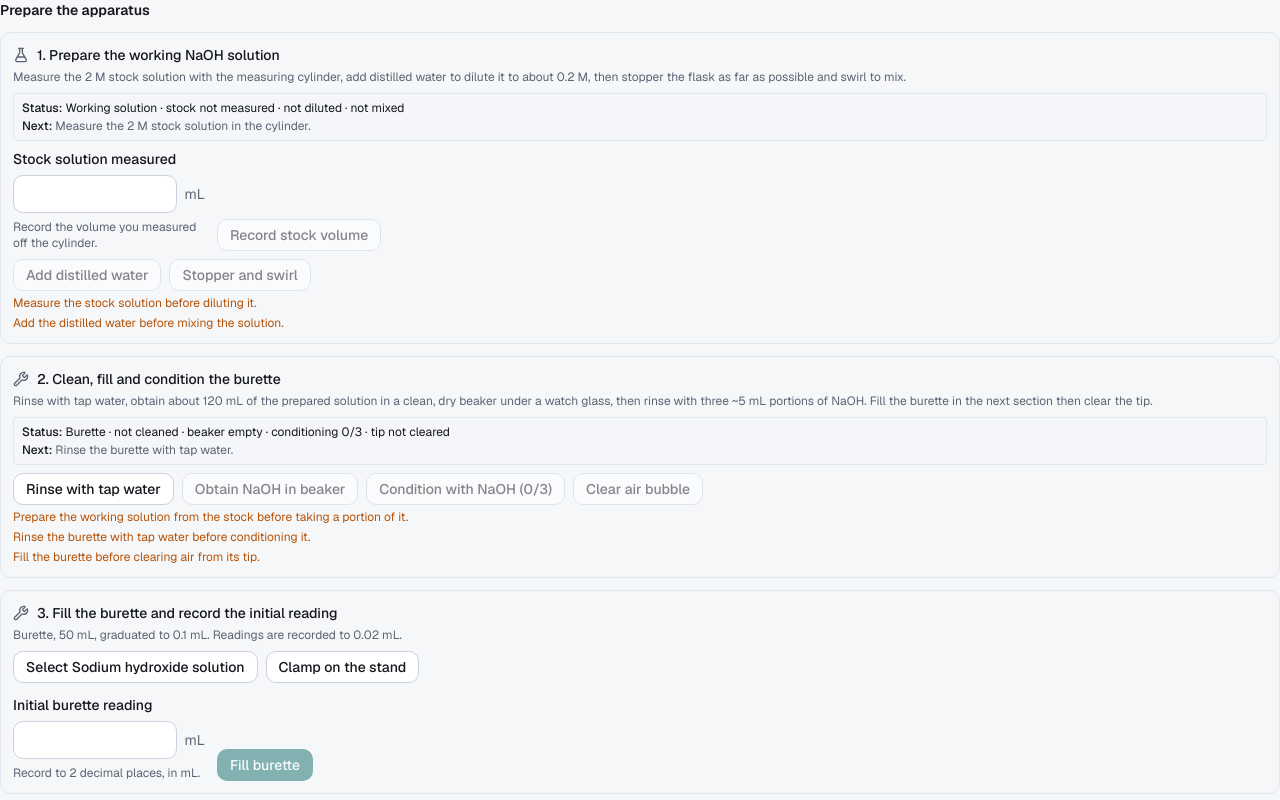
Test: the immersive laboratory (jsdom) › records the initial reading, the mass and the indicator through actions
Type "0.00" into the field labelled "Initial burette reading".
click(95, 740); type("0.00")  # box [13,721,177,759]
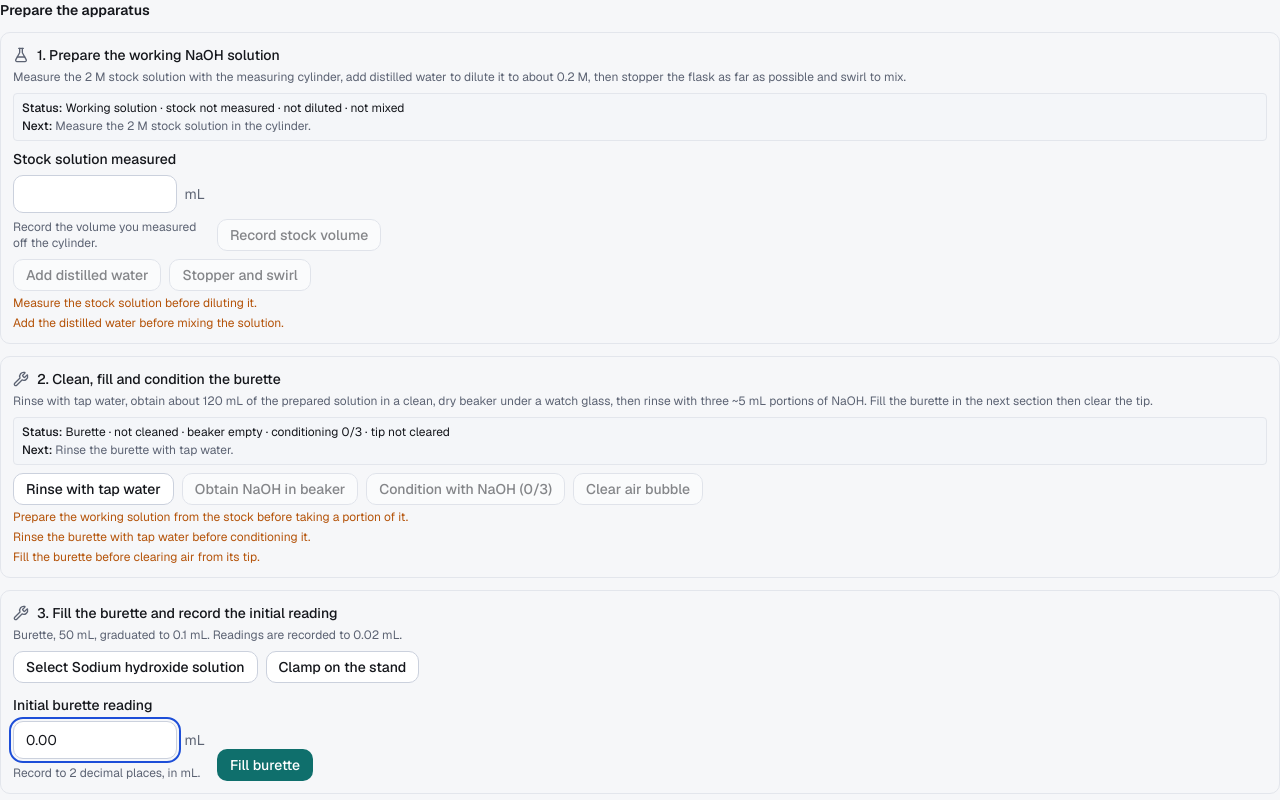
Click the button "Fill burette".
click(265, 765)  # box [217,749,313,781]
(page scrolled)
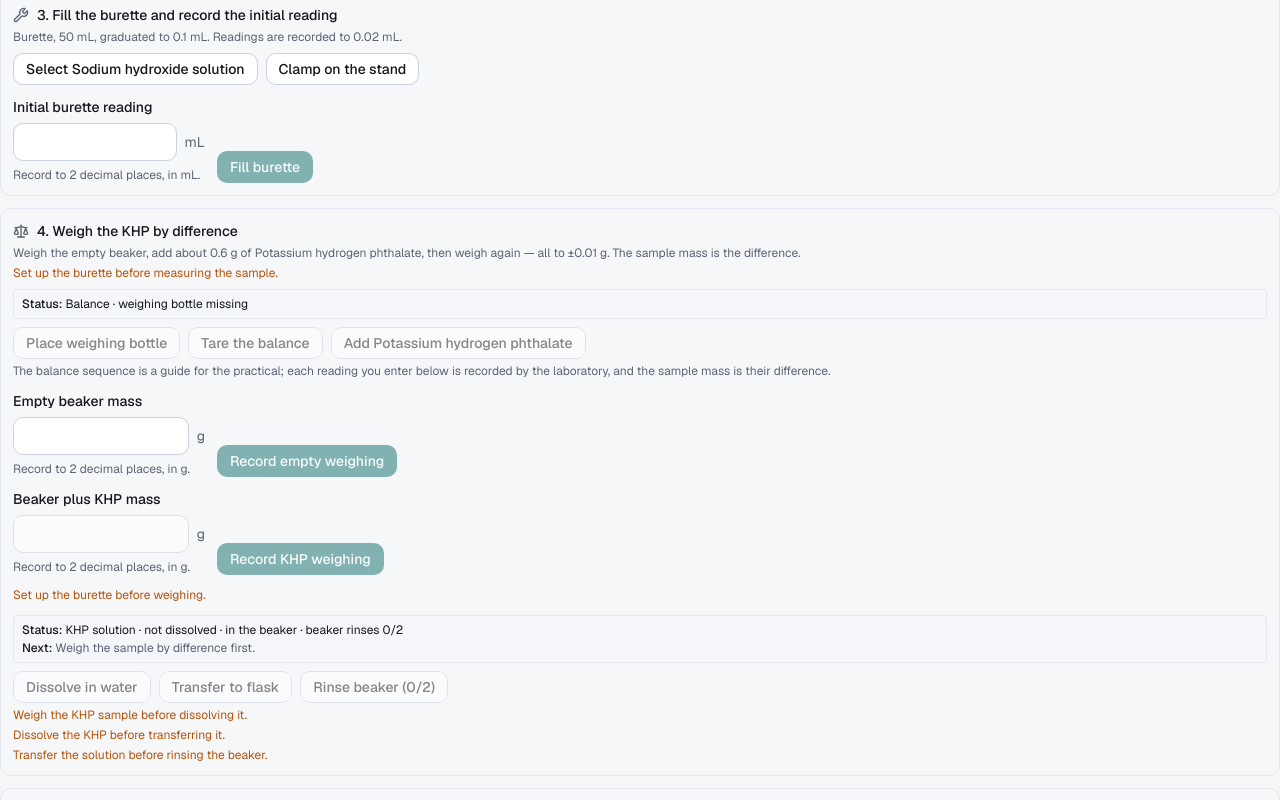
# A bad reading is refused before it is ever sent.
Type "52.34785" into the field labelled "Empty beaker mass".
click(101, 436); type("52.34785")  # box [13,417,189,455]
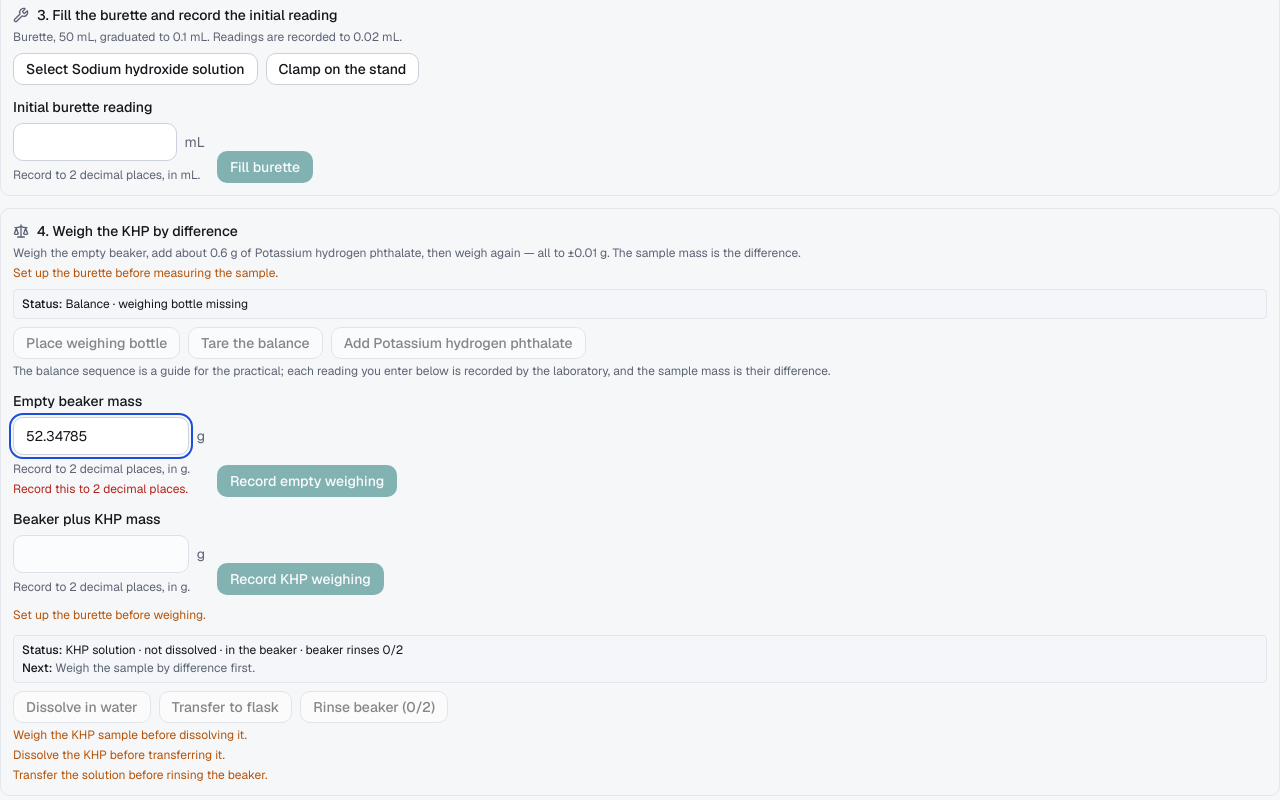
Expected: the button "Record empty weighing" is disabled, [217,465,397,497]
Expected: the message shows "2 decimal places", [13,481,188,497]
